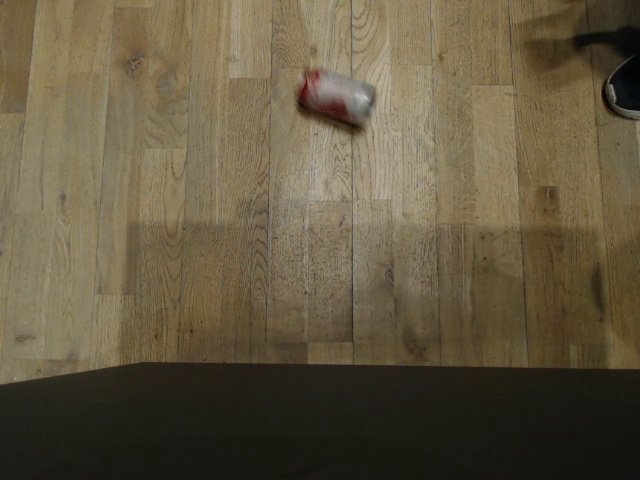cola: (293, 67, 379, 131)
